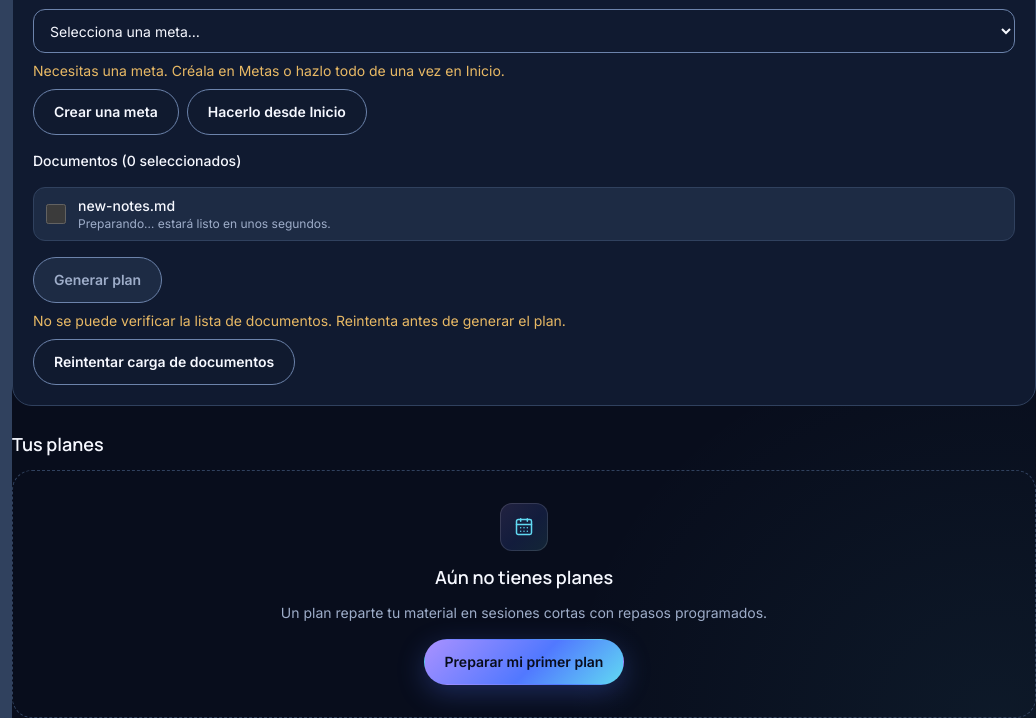
PlanPage generation › does not treat a POST-seeded pending document as a GET-confirmed empty list
The image size is (1036, 718).
(page scrolled)
Expected: the text "new-notes.md" is shown, [78, 197, 175, 214]
Expected: the checkbox labelled "new-notes.md" is disabled, [46, 204, 66, 224]
Step 1. Click the button "Reintentar carga de documentos" → x=164, y=362, box [33, 339, 295, 385]
(page scrolled)
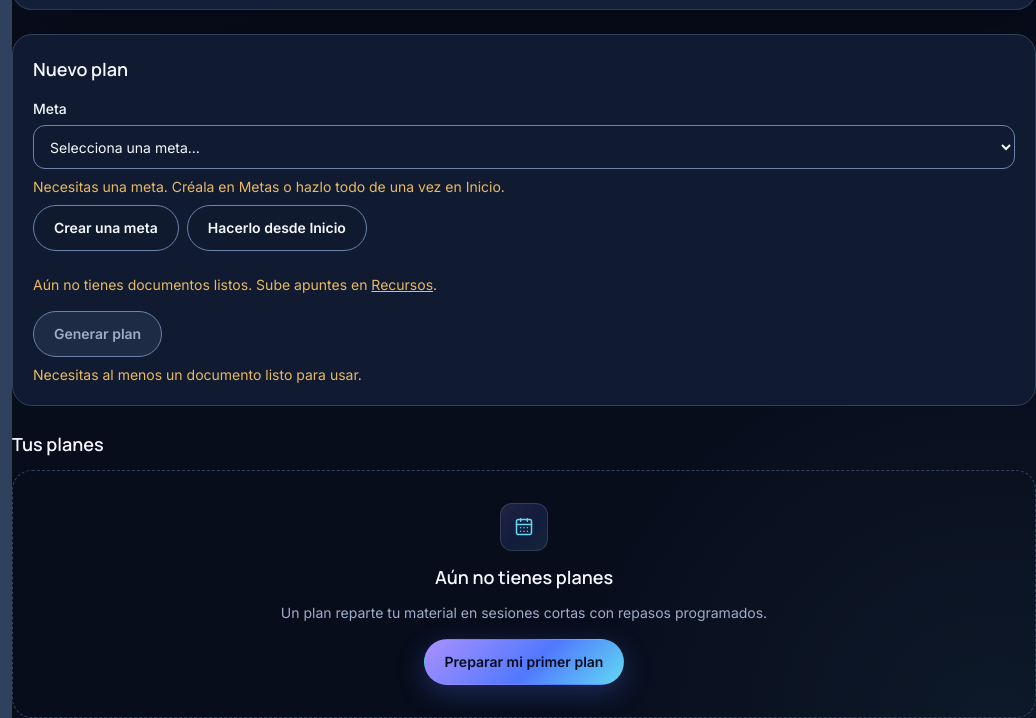
Expected: the button "Generar plan" is disabled, [33, 311, 162, 357]
Result: the text "Aún no tienes documentos listos. Sube apuntes en Recursos ." is shown at [33, 276, 437, 293]
